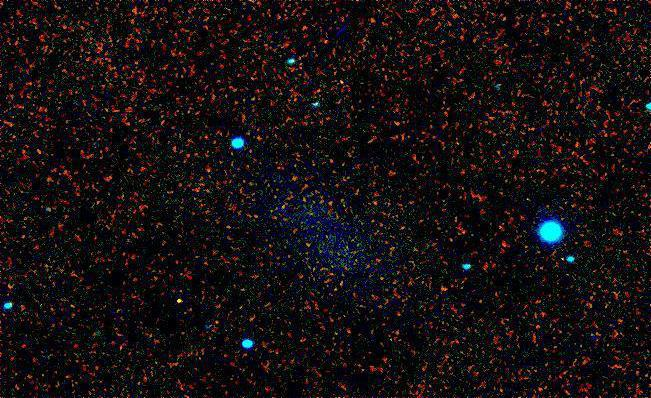star: (169, 284, 199, 314)
